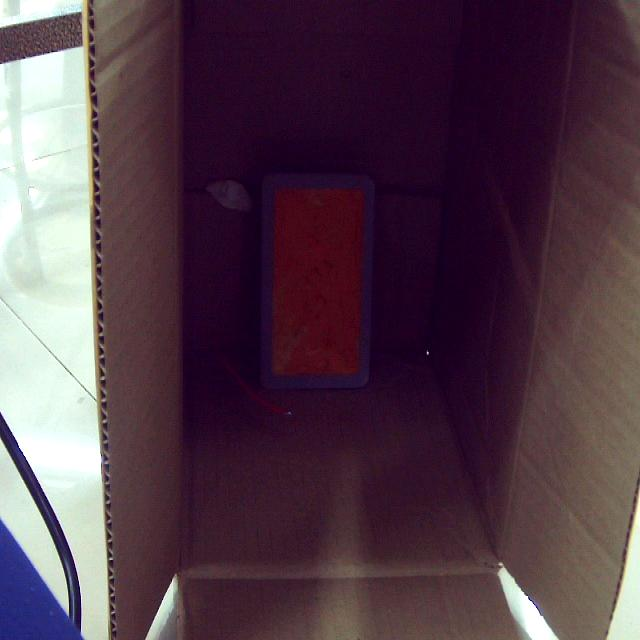block: (259, 172, 377, 392)
